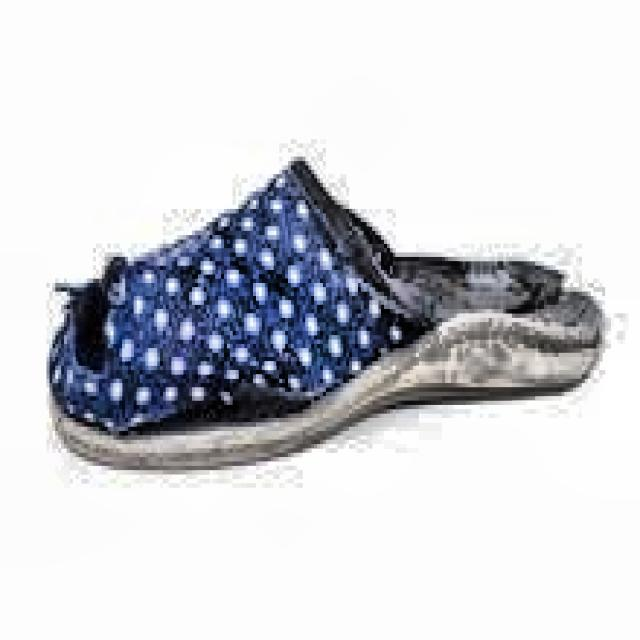shoes: (38, 139, 623, 498)
